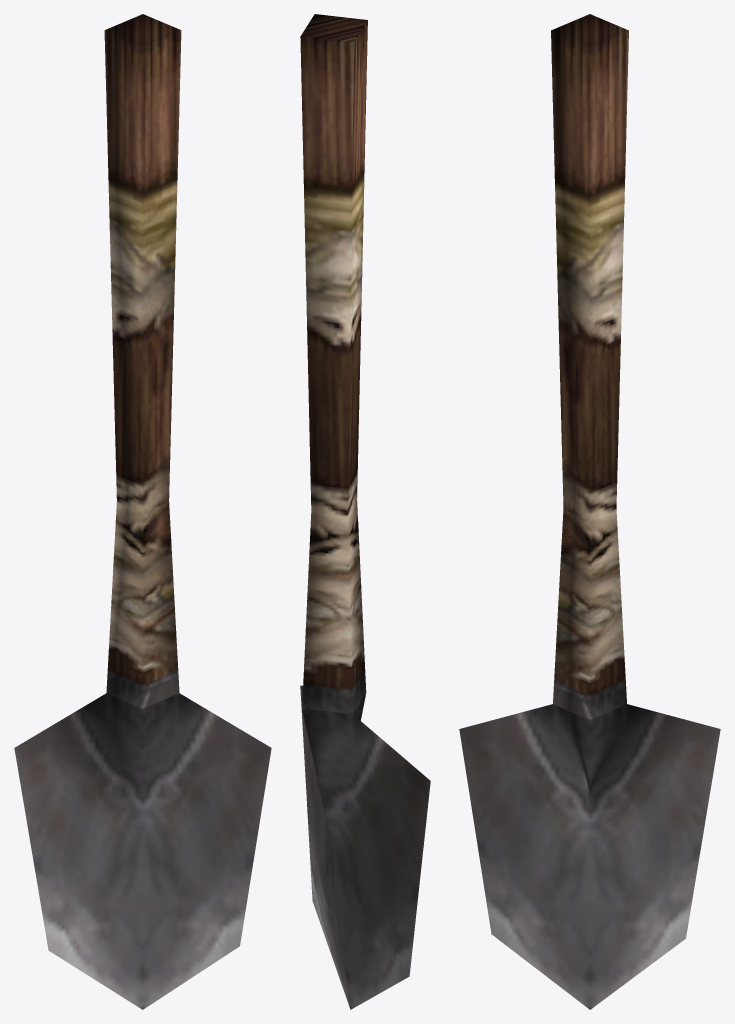
Rendered from shovel.glb.
3 renders of one model, left to right at view 1: azimuth 90°, elevation 25°; view 2: azimuth 210°, elevation 25°; view 3: azimuth 270°, elevation 25°, orthographic.
Bounding box in the file's own units: 0.1117 × 1.56 × 0.3738.
1 material, 1 textured.
